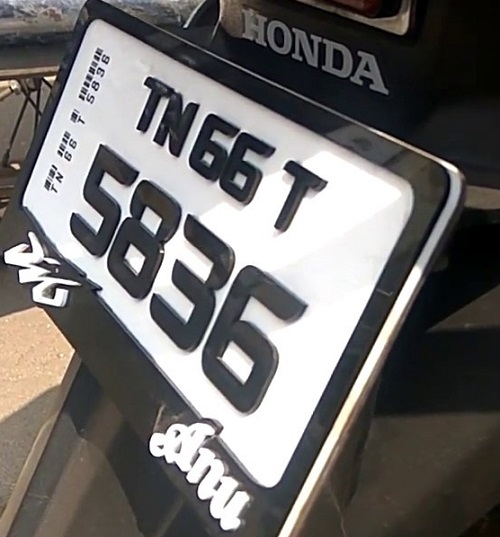number_plate: (83, 33, 369, 482)
